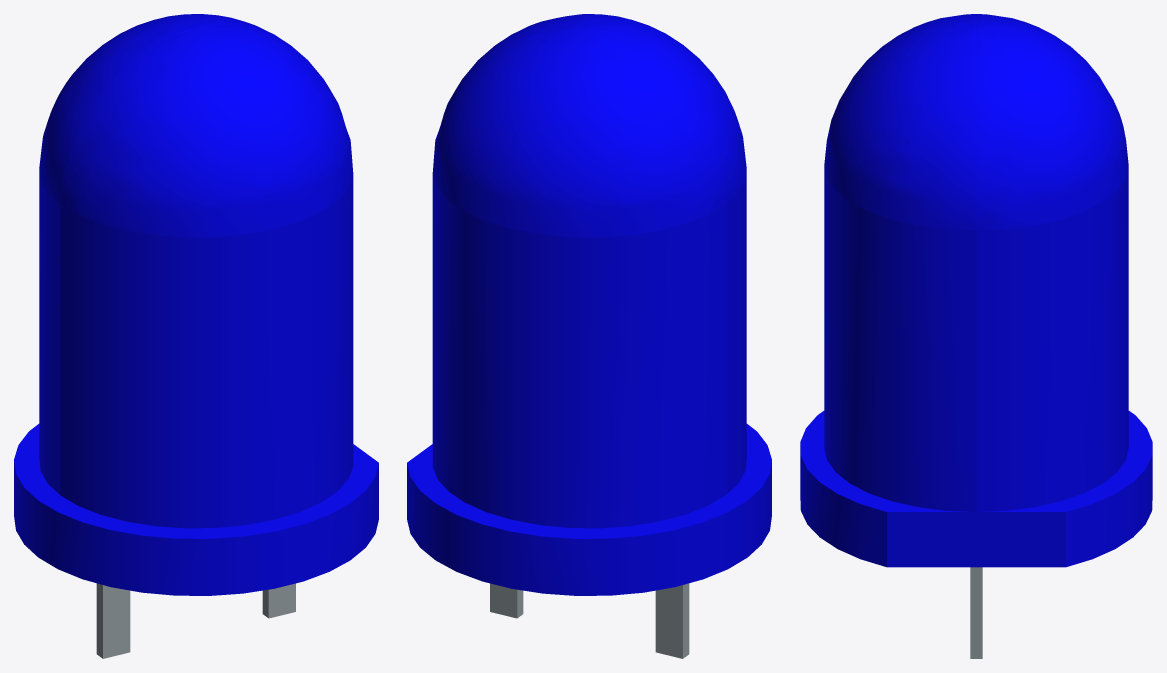
Rendered from sfe-led_pth_5mm_blue.glb.
3 renders of one model, left to right at view 1: azimuth 30°, elevation 25°; view 2: azimuth 150°, elevation 25°; view 3: azimuth 270°, elevation 25°, orthographic. The views are drawn at different scales.
Parts seen in each view (by area): view 1: 0_0_1_0, 0.3333333333333333_0.4166666666666667_0.4166666666666667_0; view 2: 0_0_1_0, 0.3333333333333333_0.4166666666666667_0.4166666666666667_0; view 3: 0_0_1_0, 0.3333333333333333_0.4166666666666667_0.4166666666666667_0.
Part boxes in pixels (x1,y1,x2,y2): 0_0_1_0: (14,14,378,595); 0.3333333333333333_0.4166666666666667_0.4166666666666667_0: (96,583,295,658); 0_0_1_0: (407,14,771,595); 0.3333333333333333_0.4166666666666667_0.4166666666666667_0: (490,583,689,658); 0_0_1_0: (800,14,1152,567); 0.3333333333333333_0.4166666666666667_0.4166666666666667_0: (970,567,982,658).
Size of the model in its own units: 0.54 by 1.06 by 0.5782.
